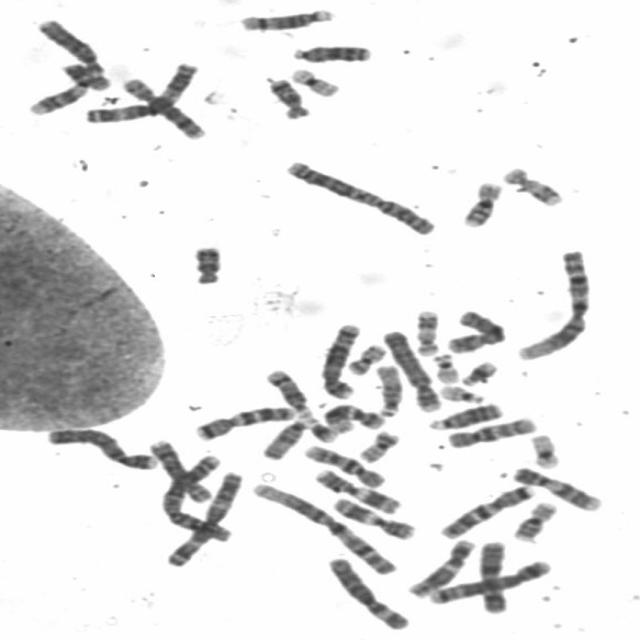A1: (244, 477, 400, 577), (511, 244, 596, 362)
A2: (278, 154, 441, 237), (153, 448, 236, 542)
A3: (159, 465, 247, 568), (78, 57, 201, 124)
B4: (376, 324, 444, 414), (41, 422, 160, 472)
B5: (422, 553, 556, 606), (314, 317, 366, 400)
C10: (297, 439, 388, 489), (440, 410, 541, 450)
C11: (308, 463, 407, 516), (326, 492, 419, 542)
C12: (401, 533, 478, 599), (316, 398, 389, 433)
C6: (322, 551, 412, 632), (31, 12, 114, 92)
C7: (434, 478, 538, 540), (188, 400, 300, 442)
C8: (115, 72, 210, 140), (141, 434, 215, 504)
C9: (506, 461, 606, 512), (22, 58, 104, 117)
D13: (422, 396, 506, 431), (286, 38, 376, 64)
D14: (259, 364, 316, 419), (234, 3, 338, 32)
D15: (256, 412, 312, 461), (369, 359, 406, 419)
E16: (456, 176, 506, 228), (506, 496, 561, 543)
E17: (496, 161, 569, 208), (408, 304, 442, 358)
E18: (260, 71, 314, 120), (186, 239, 226, 286)
F19: (284, 62, 344, 98), (524, 428, 564, 470)
F20: (352, 424, 403, 464), (340, 338, 390, 376)
G21: (454, 355, 502, 387), (301, 413, 340, 444)
G22: (434, 379, 488, 404), (427, 348, 462, 384)
X: (439, 304, 511, 354), (473, 534, 513, 614)
